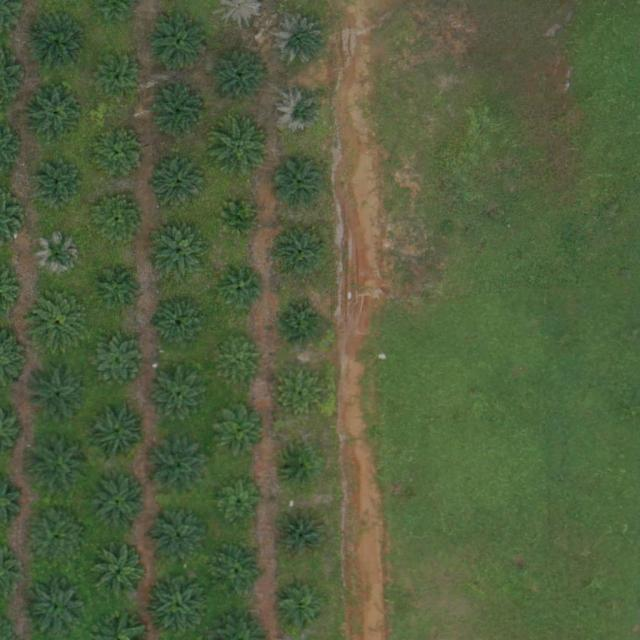Dead: (271, 14, 326, 69), (279, 89, 326, 137), (36, 234, 83, 281)
Healthy: (149, 12, 212, 75), (30, 291, 93, 354), (85, 331, 148, 394), (85, 400, 148, 463), (211, 117, 273, 180), (145, 437, 207, 500), (147, 574, 209, 637), (27, 363, 89, 426), (25, 577, 88, 639), (211, 46, 273, 108), (29, 435, 91, 497), (31, 18, 86, 73), (29, 89, 84, 144), (93, 130, 148, 185), (91, 194, 146, 249), (152, 86, 207, 141), (152, 227, 207, 282), (154, 298, 209, 353), (273, 158, 328, 213), (273, 227, 328, 282), (213, 545, 268, 600), (151, 369, 206, 424), (151, 510, 206, 565), (30, 515, 85, 570), (152, 158, 206, 213), (91, 478, 145, 533), (93, 547, 147, 602), (34, 162, 81, 209), (214, 337, 261, 384)
Small: (91, 261, 146, 316), (275, 510, 330, 565), (273, 584, 328, 639), (211, 403, 265, 458), (94, 57, 141, 104), (219, 267, 266, 314), (218, 481, 265, 528), (276, 369, 323, 416), (280, 302, 327, 349), (278, 446, 318, 485), (220, 202, 260, 241)
